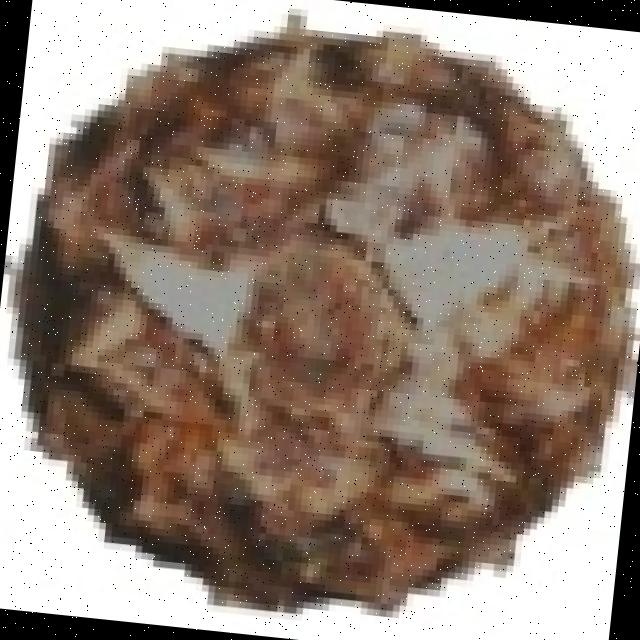pineapple: (34, 10, 635, 599)
